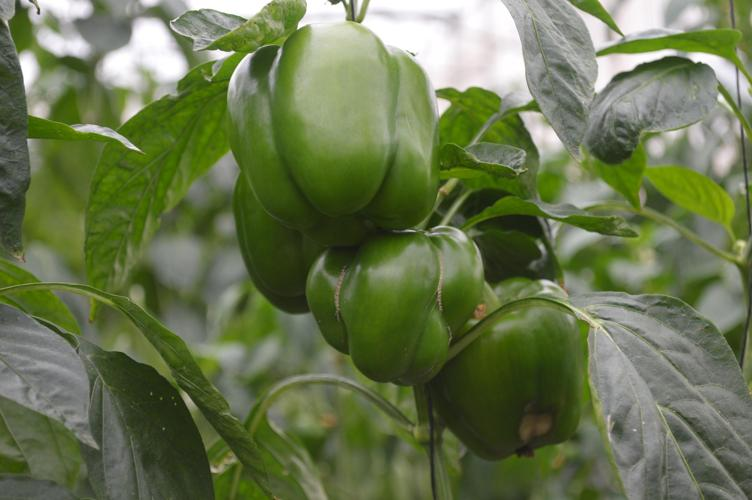BellPepper: (218, 35, 432, 249), (436, 298, 605, 467), (304, 243, 456, 395), (213, 177, 350, 314)
